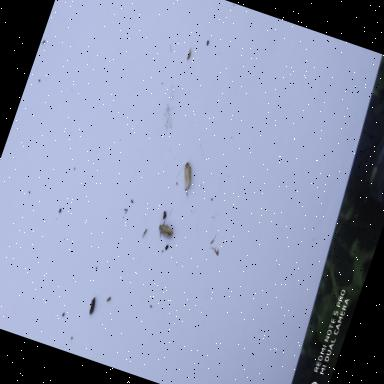pbw: (170, 156, 202, 200), (152, 209, 181, 244)
